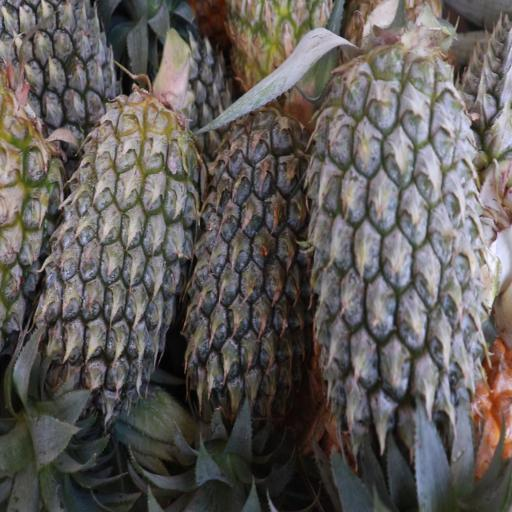------------------------------: (0, 87, 69, 334), (228, 0, 337, 113)
